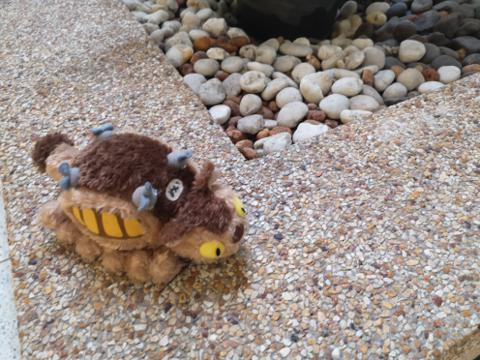nekobus: (27, 116, 249, 293)
